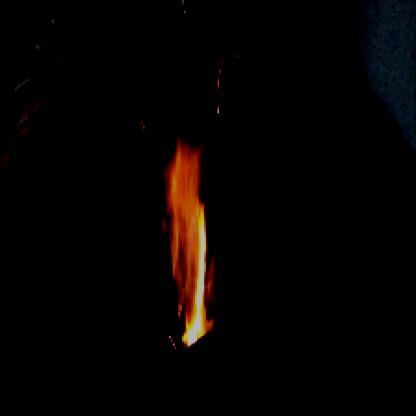Fire: (138, 110, 240, 358)
